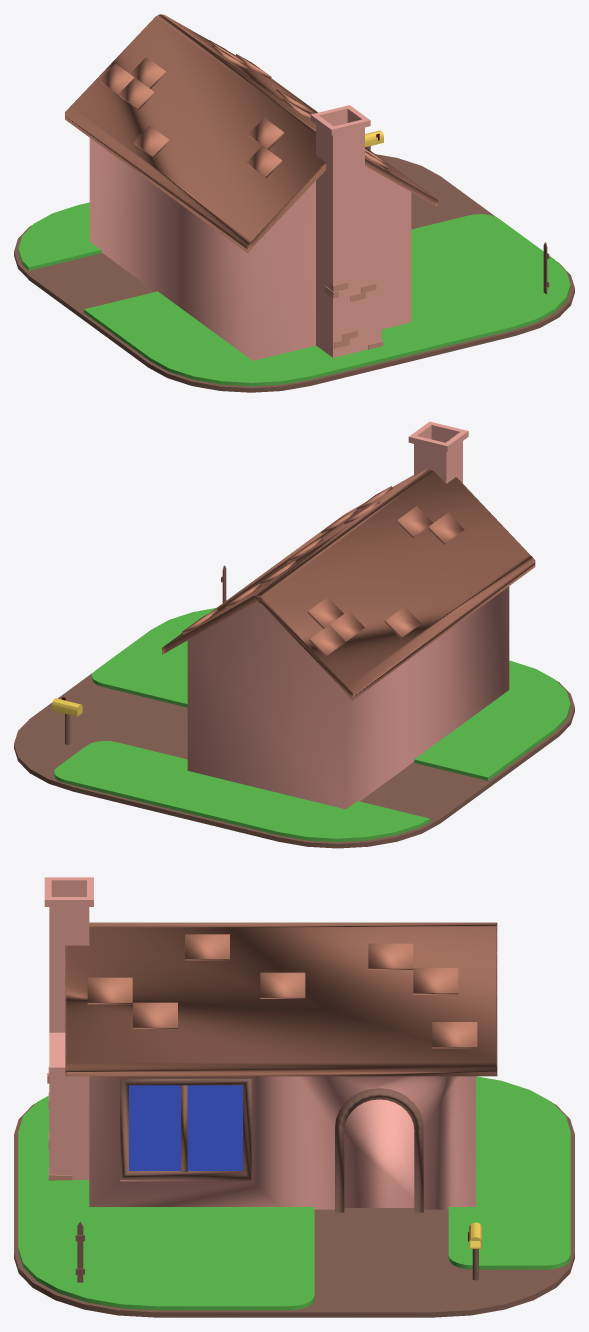
Rendered from 834f036e-e646-11ec-a3e3-bca8a6eea024.glb.
3 views of the same model, one above another, from view 1: azimuth 30°, elevation 25°; view 2: azimuth 150°, elevation 25°; view 3: azimuth 270°, elevation 25° (orthographic). The views are drawn at different scales.
Parts seen in each view (by area): view 1: Cube; view 2: Cube; view 3: Cube.
Part boxes in pixels (bbox=[...]): Cube: bbox=[14, 14, 574, 392]; Cube: bbox=[14, 421, 574, 848]; Cube: bbox=[14, 877, 574, 1317].
Size of the model in its own units: 9.21 by 5.11 by 9.21.
